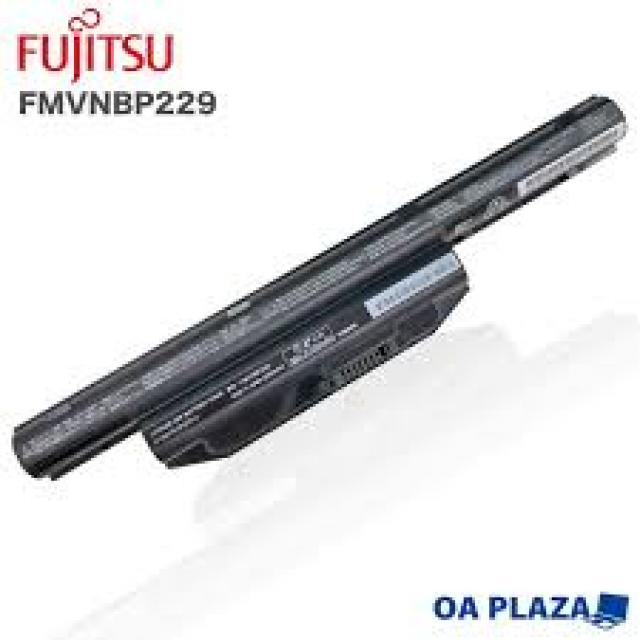non-organic waste: (12, 92, 630, 480)
